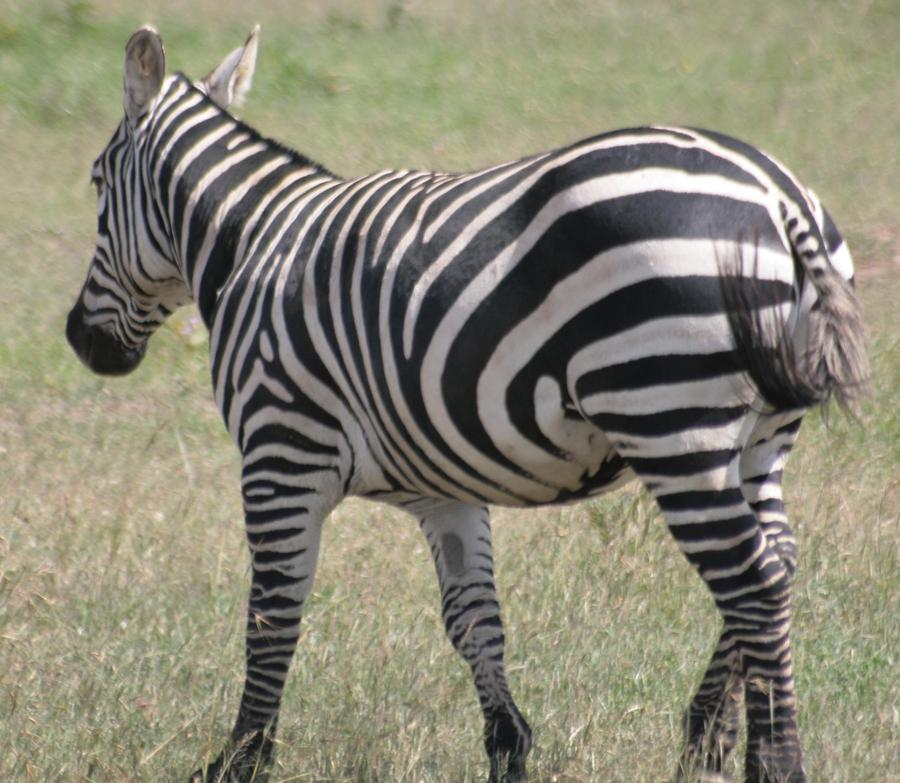zebra_plains: (224, 166, 749, 511)
